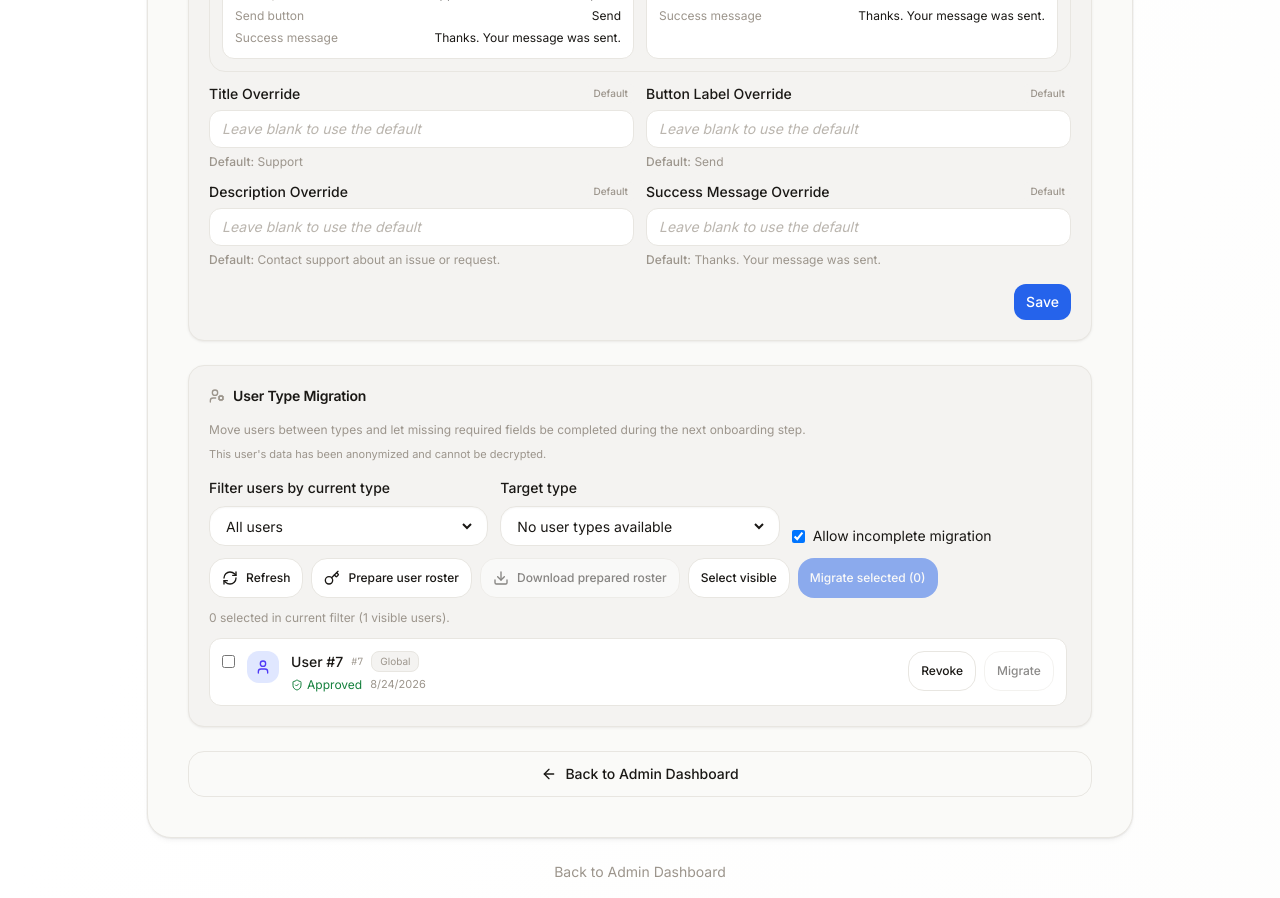
AdminUserConfig › requires fresh preparation when the roster changes during export auditing
(page scrolled)
Click the button "Prepare user roster": (392, 578) [312, 558, 472, 598]
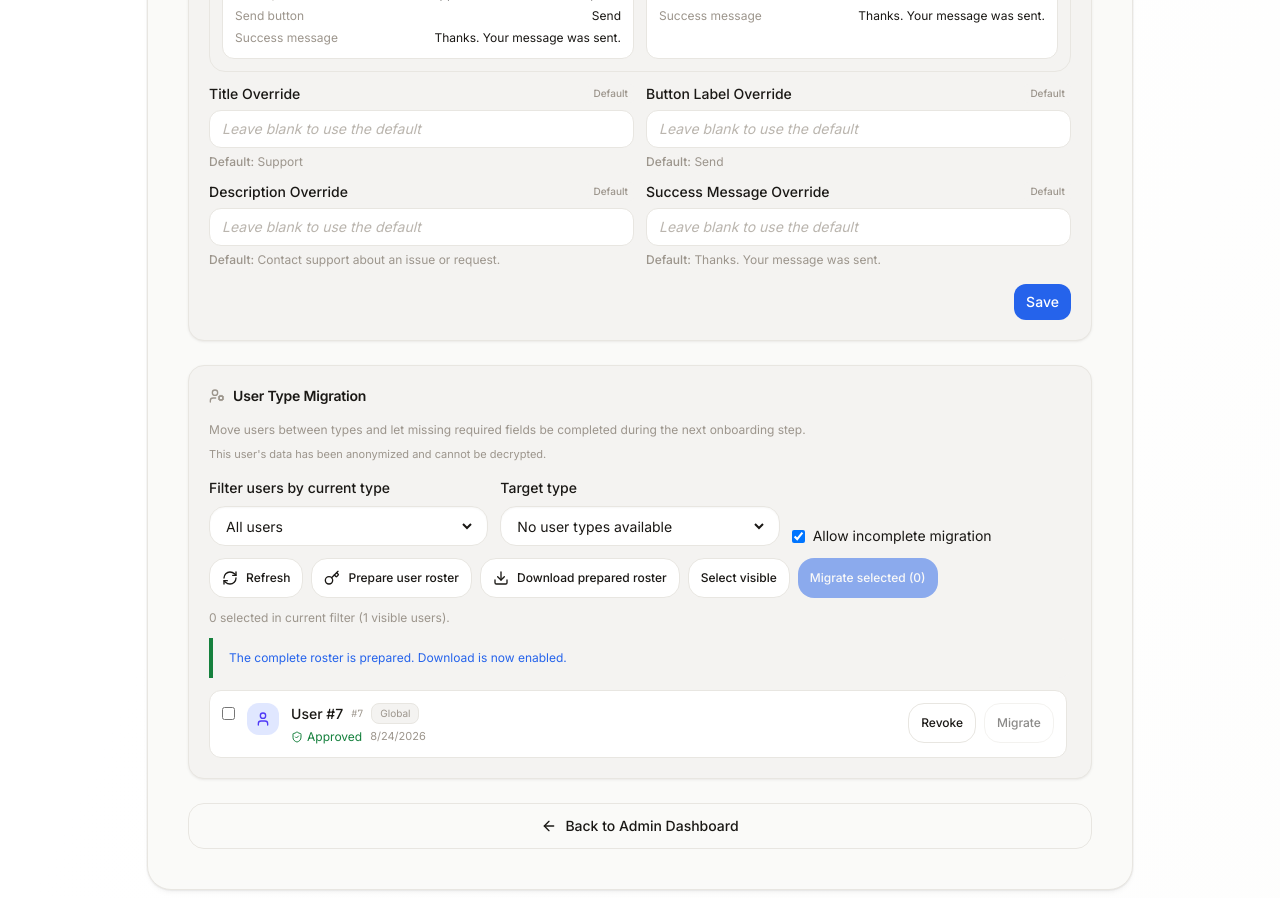
Result: the button "Download prepared roster" is enabled
Click the button "Download prepared roster": (580, 578) [480, 558, 680, 598]
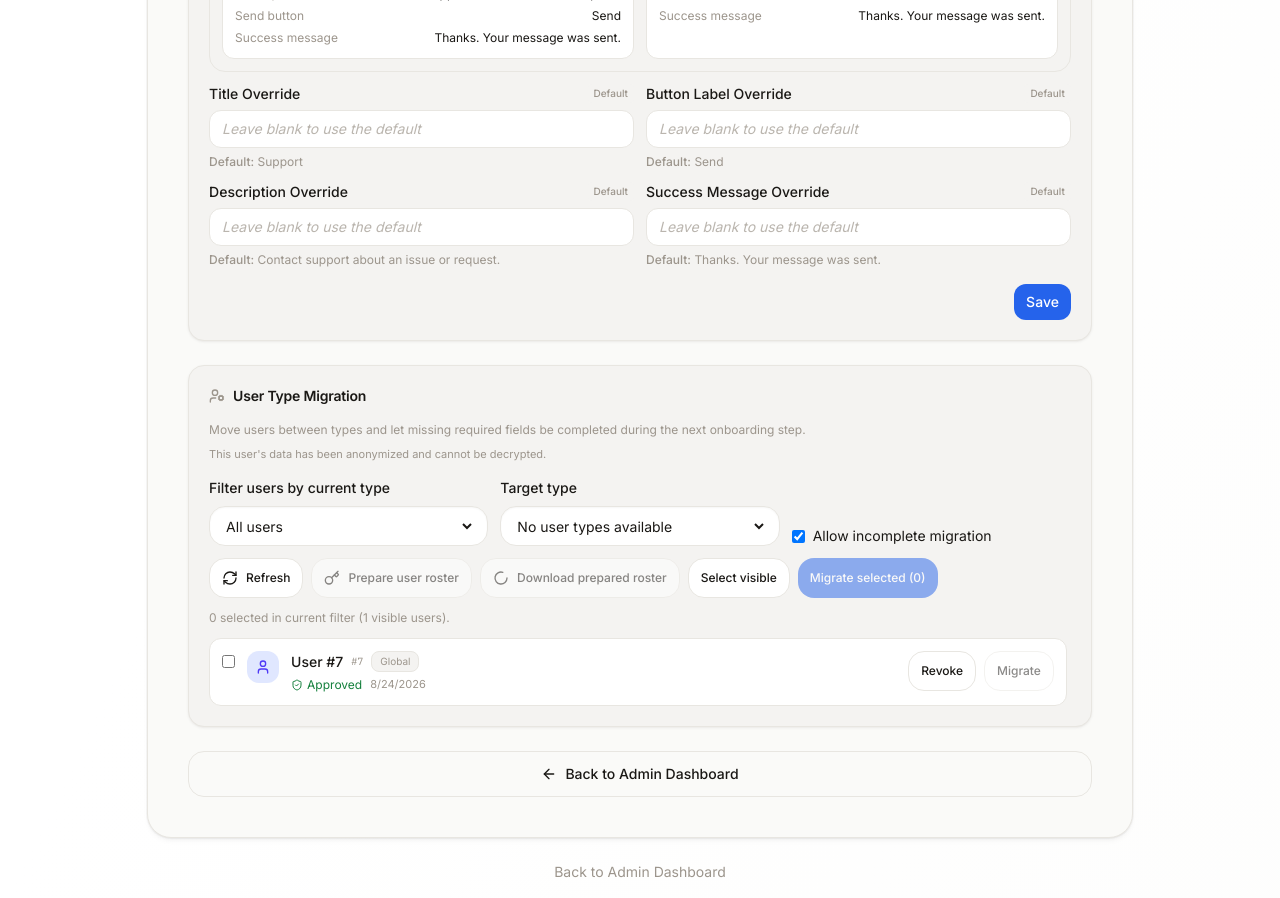
Click the button "Refresh": (256, 578) [209, 558, 304, 598]
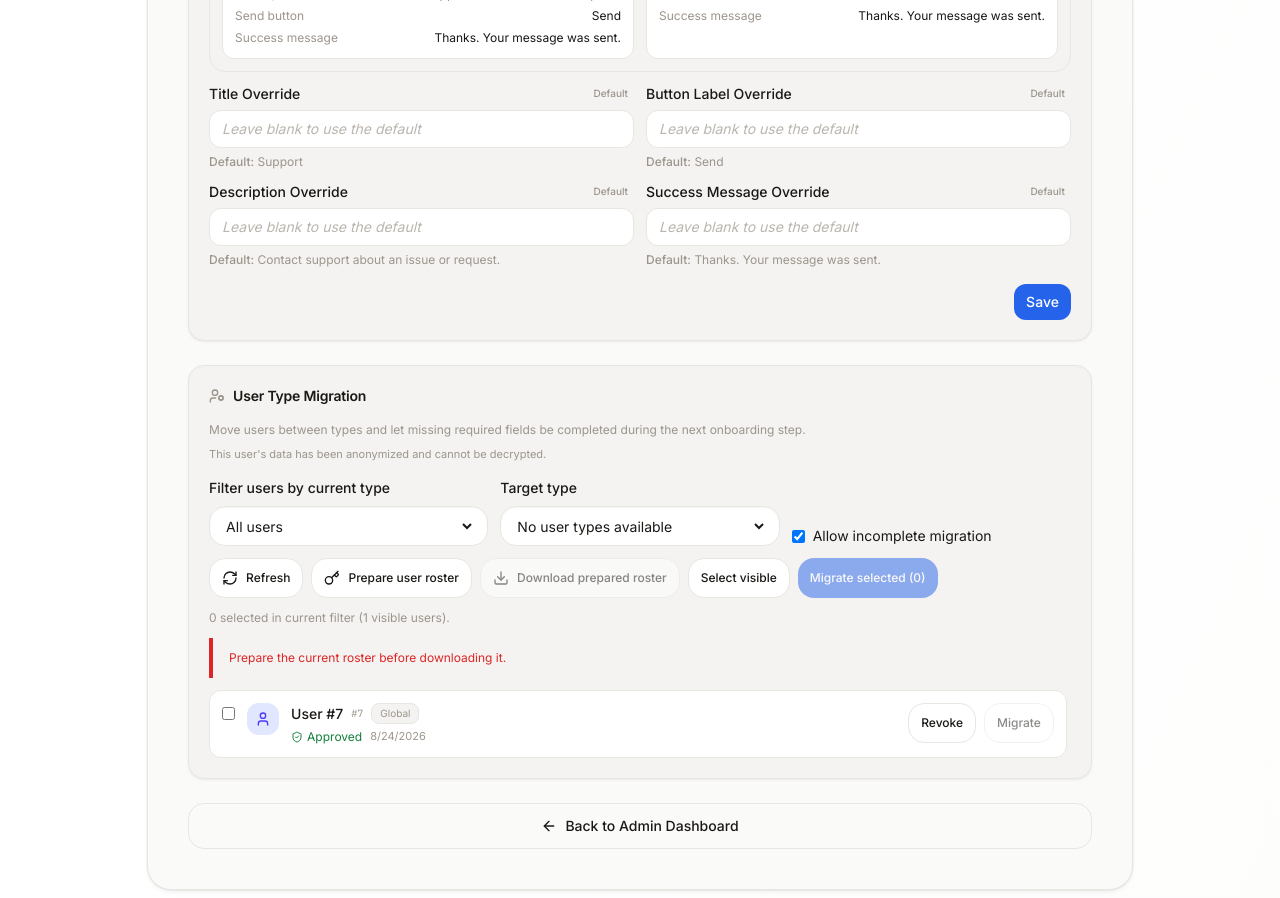
Result: the button "Download prepared roster" is disabled at [480, 558, 680, 598]
Result: the element named "User roster export failed" reads "Prepare the current roster before downloading it." at [229, 650, 506, 665]
